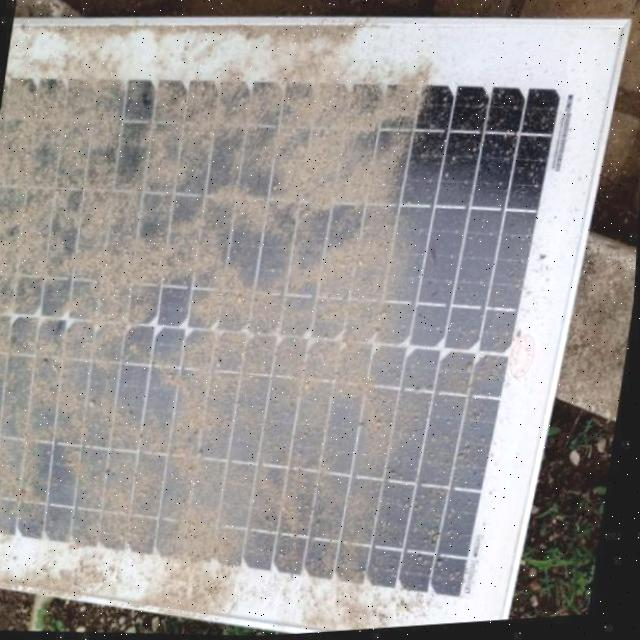Surface Contaminant: (0, 49, 544, 596)
